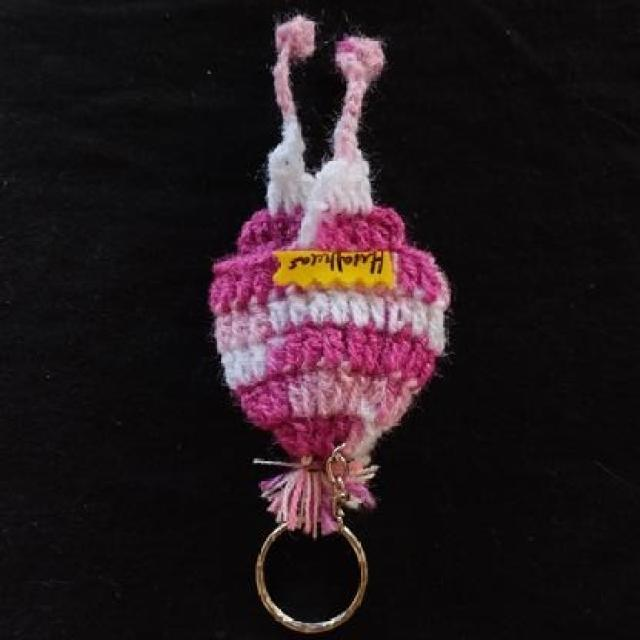Llavero: (205, 14, 453, 634)
